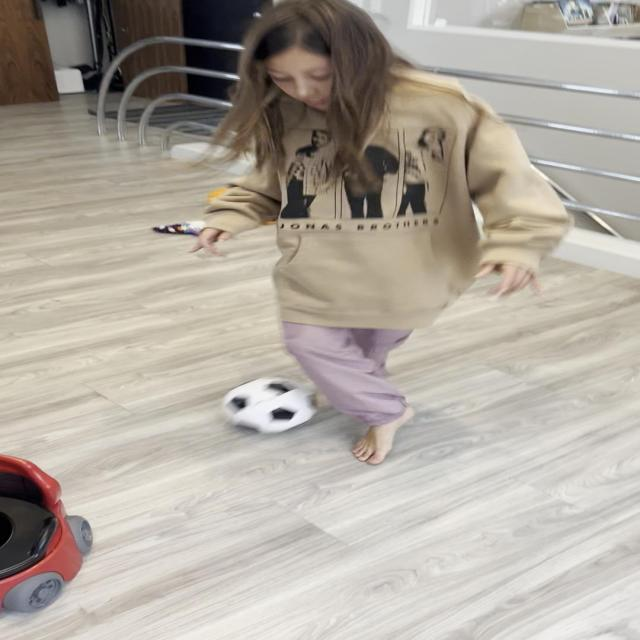Soccer Ball: (222, 376, 321, 434)
